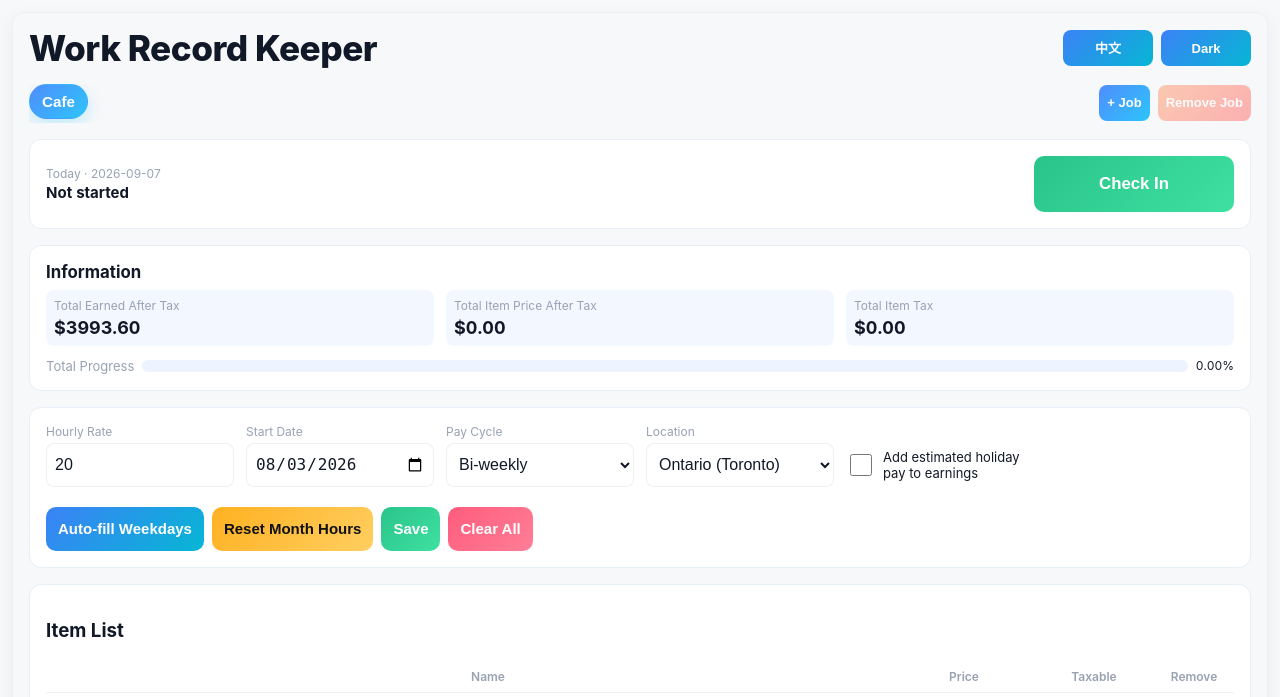
Scenario: an Ontario statutory holiday adds real pay, once the estimate is switched on, even with no logged hours
Click the checkbox labelled "Add estimated holiday pay to earnings".
click(861, 465)  # box [850,454,872,476]
(page scrolled)
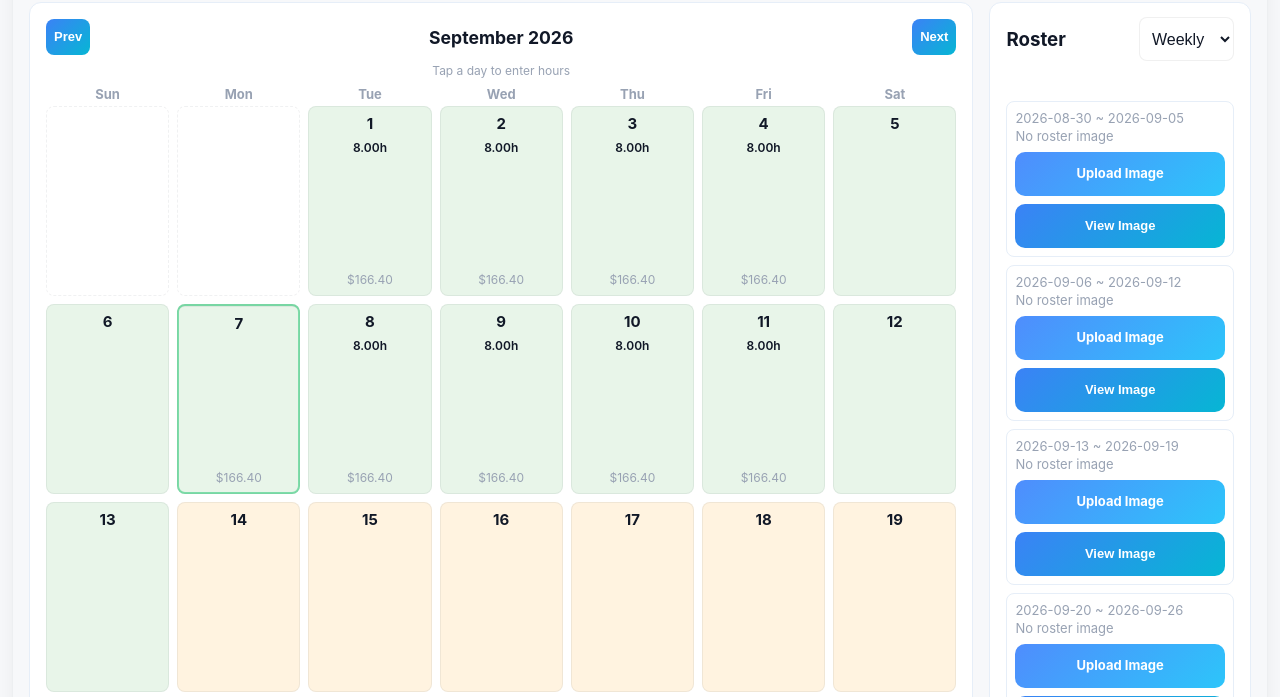
Expected: the button with class "cal-cell-compact" reads "7 $166.40", [177,304,300,494]
